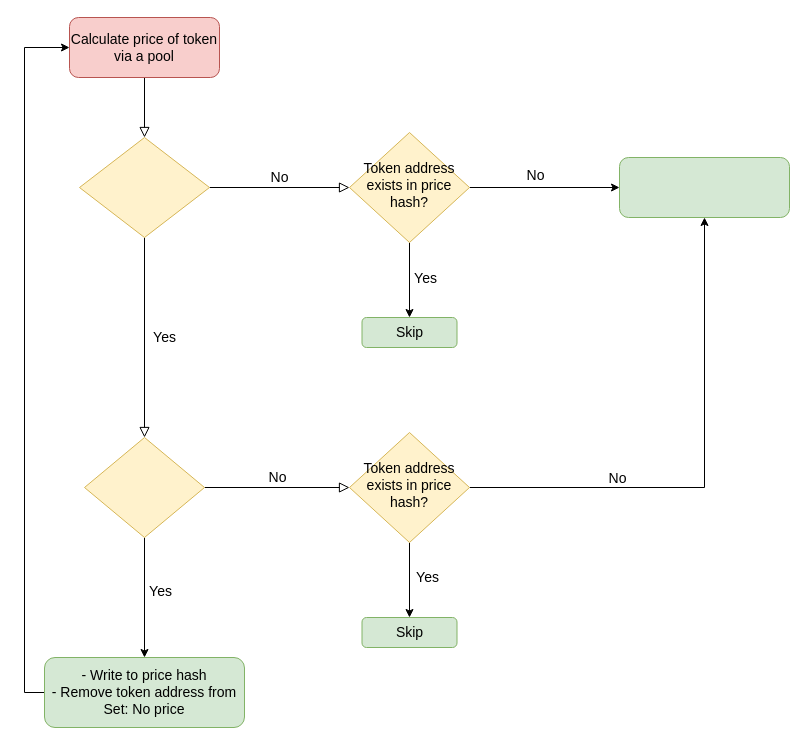
This 807x745 diagram has some shape labels left out. The shapes that lost their labels are listed below. From the top down, each one's centre as x and y in pixels, then its label:
the point at 144,187: Price can be calculated?
the point at 704,187: Write token address to Set: No price
the point at 144,487: Price is acceptable?
